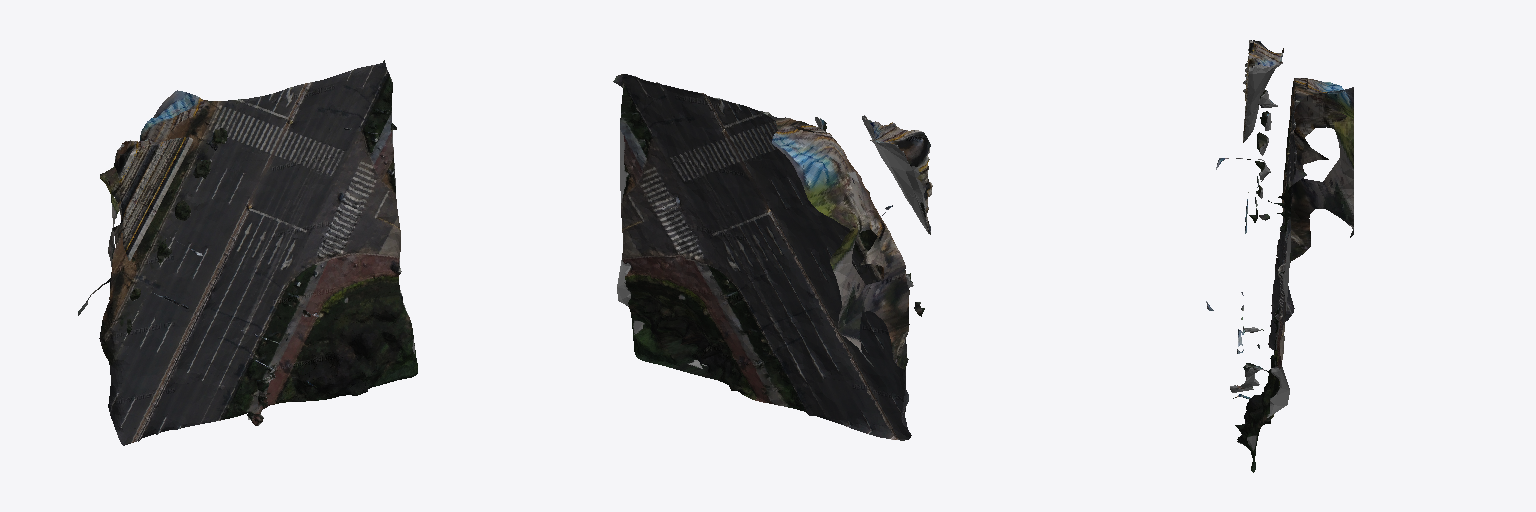
3 renders of one model, left to right at view 1: azimuth 30°, elevation 25°; view 2: azimuth 150°, elevation 25°; view 3: azimuth 270°, elevation 25°, orthographic.
Bounding box in the file's own units: 61.7 × 61.57 × 26.72.
2 materials, 1 textured.